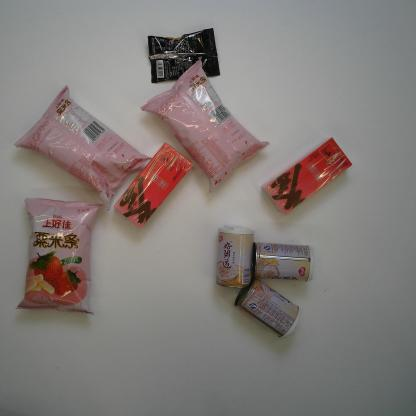Canned Food: (234, 278, 302, 340), (215, 223, 255, 290), (253, 242, 315, 282)
Instant Drink: (113, 141, 193, 228), (266, 136, 352, 215), (147, 28, 221, 82)
Puffed Food: (14, 84, 152, 212), (142, 59, 270, 195), (15, 198, 104, 316)
